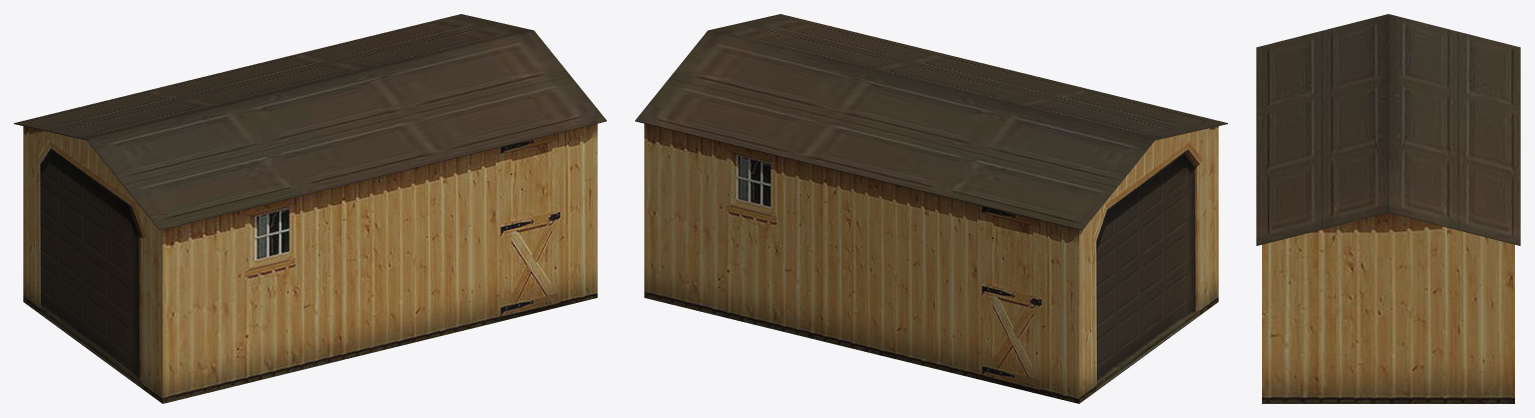
The model's file is sibir_garaz3.FBX.
3 renders of one model, left to right at view 1: azimuth 30°, elevation 25°; view 2: azimuth 150°, elevation 25°; view 3: azimuth 270°, elevation 25°, orthographic. The views are drawn at different scales.
Parts seen in each view (by area): view 1: sibir_garaz3; view 2: sibir_garaz3; view 3: sibir_garaz3.
Part boxes in pixels (box(x1,y1,x2,y2)): sibir_garaz3: box(14, 14, 606, 403); sibir_garaz3: box(635, 14, 1227, 403); sibir_garaz3: box(1256, 14, 1520, 403).
Bounding box in the file's own units: 514 × 290 × 236.
